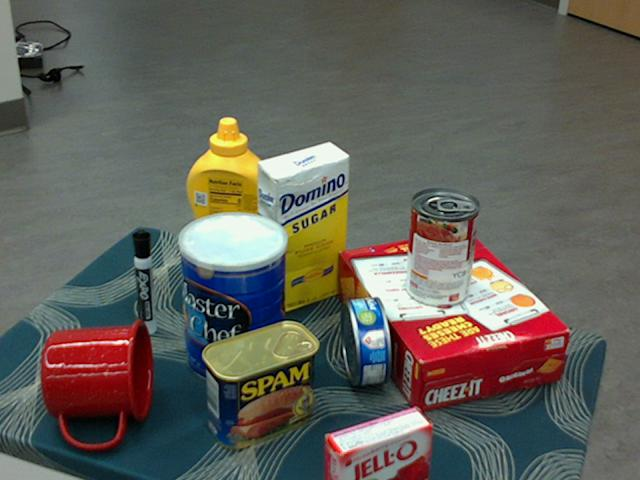cracker_box: (335, 232, 568, 409)
gelatin_box: (321, 407, 430, 479)
large_marker: (132, 228, 153, 334)
master_chef_can: (179, 212, 288, 387)
mug: (41, 318, 153, 448)
mustard_bottle: (185, 117, 273, 285)
potted_meat_can: (202, 321, 319, 448)
sugar_box: (257, 143, 349, 316)
tomato_soup_can: (404, 189, 479, 308)
tuna_fish_can: (341, 295, 391, 385)
